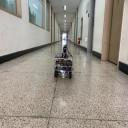cart: (54, 56, 74, 79)
